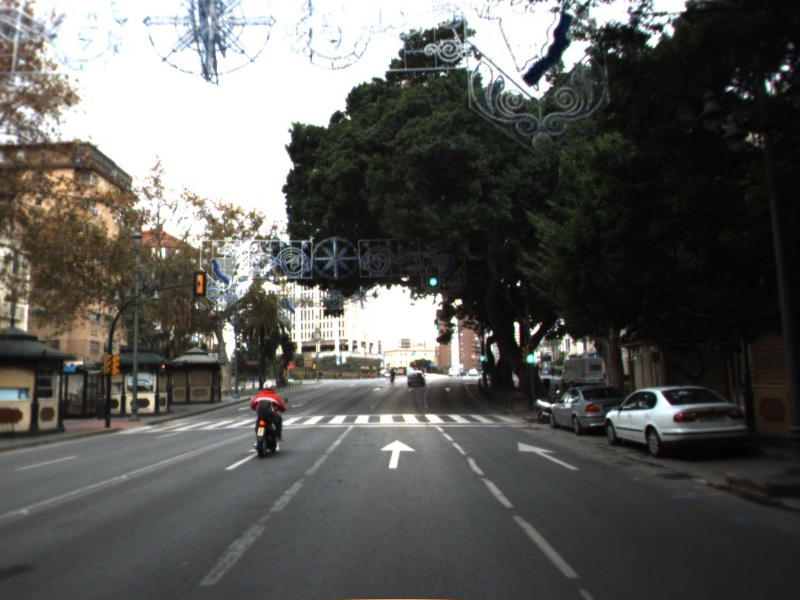STRAIGHT: (515, 440, 583, 472), (222, 440, 282, 472), (378, 438, 418, 470)
